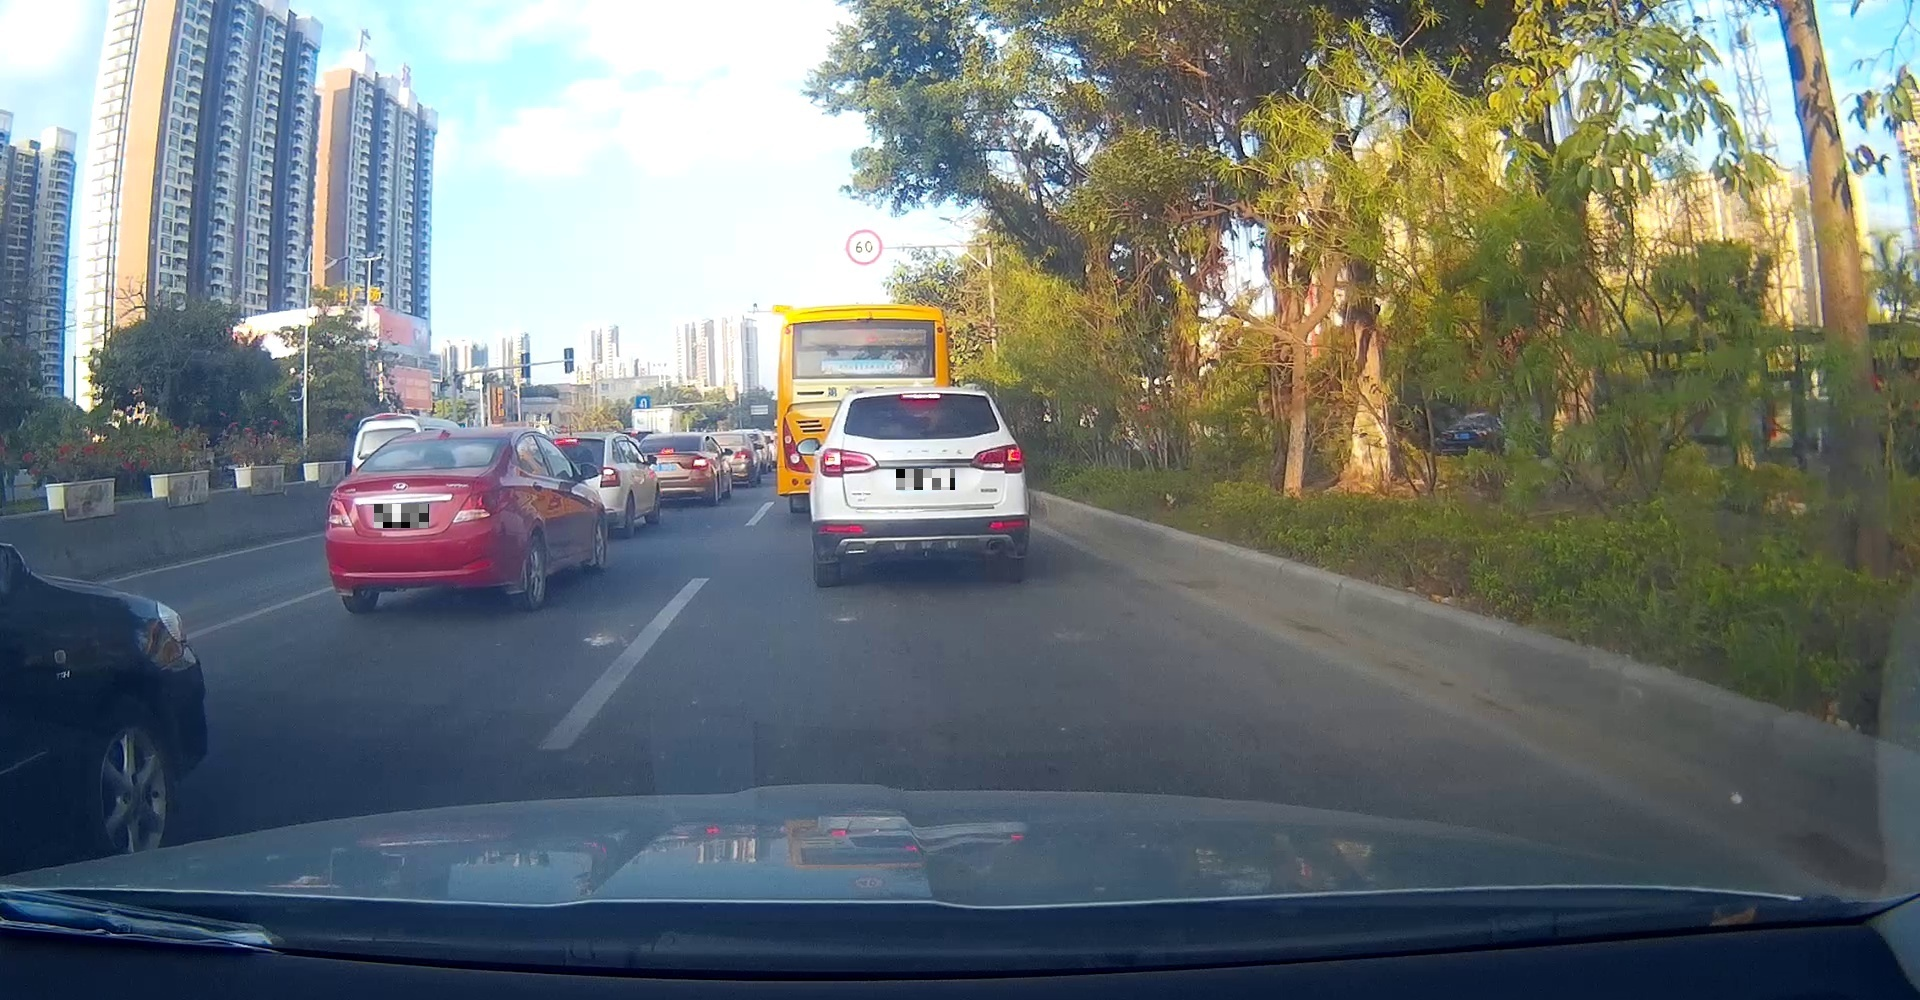L_light: (819, 447, 879, 476), (326, 497, 359, 527)
R_light: (452, 489, 514, 523), (970, 442, 1023, 475)
T_light: (902, 393, 941, 398), (403, 464, 432, 470)
day-brake: (810, 387, 1030, 586)
day-no: (323, 428, 516, 614)
plate_1: (375, 504, 429, 528)
plate_2: (897, 470, 955, 490)
